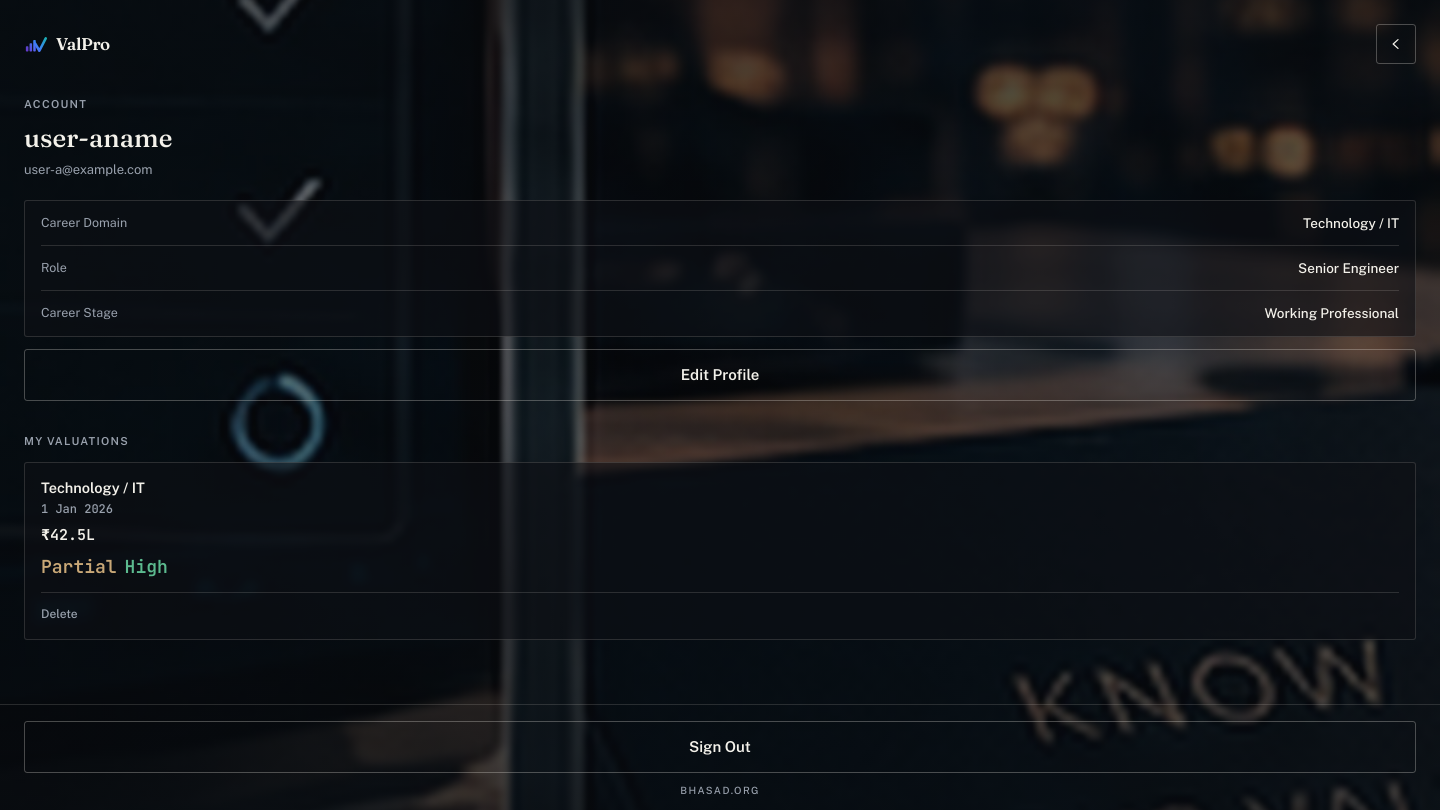
Test: Account — valuation cards › removes the valuation from the visible list after a successful delete, without a full reload
The image size is (1440, 810).
Expected: the element with test id "valuation-card" is shown, [24,462,1416,640]
What coordinates should you click on to do the following:
click the button "Delete"
I would click on:
 (59, 614)
Its box is [41,592,1399,623].
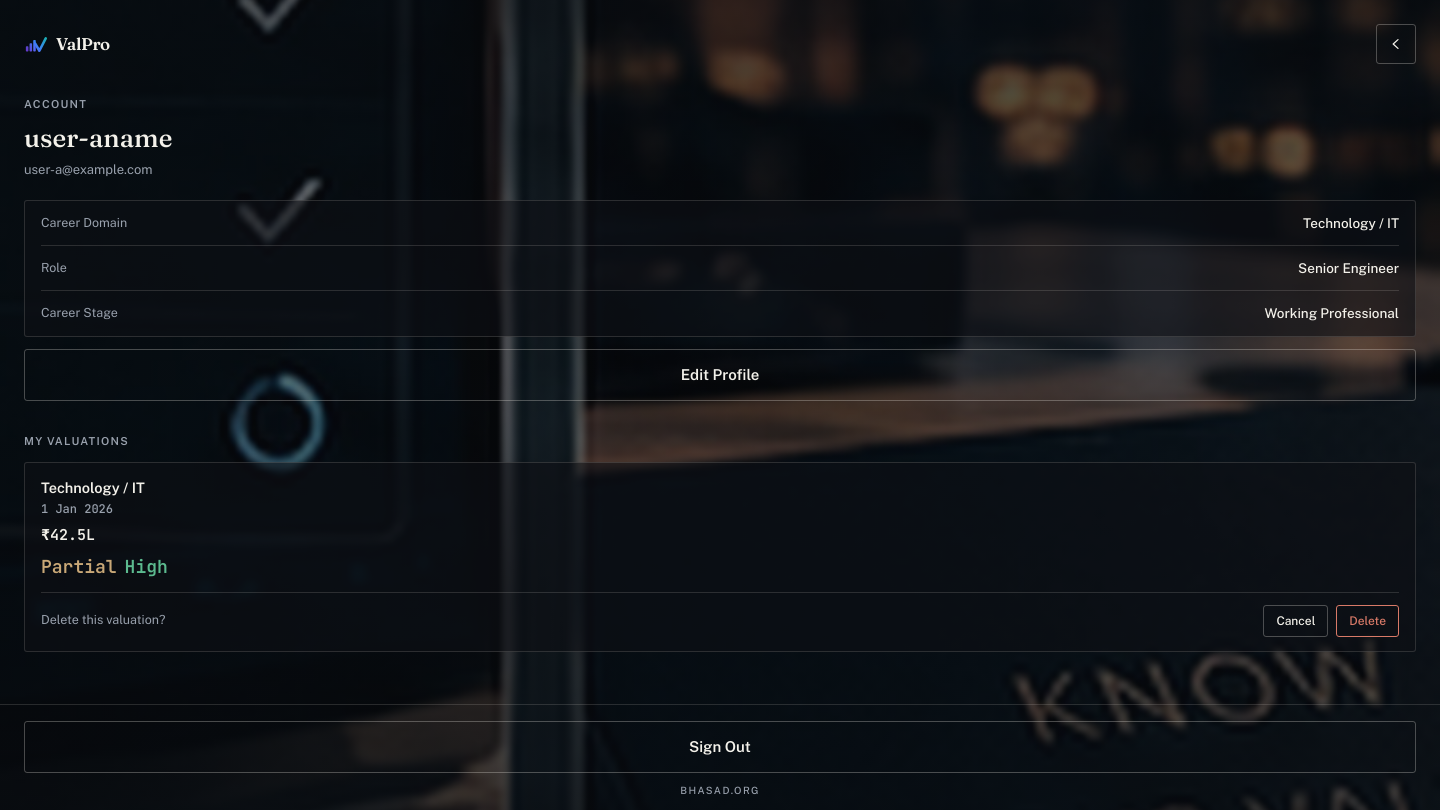
What coordinates should you click on to do the following:
click the button "Delete"
I would click on:
 (1368, 621)
Its box is [1336,605,1399,637].
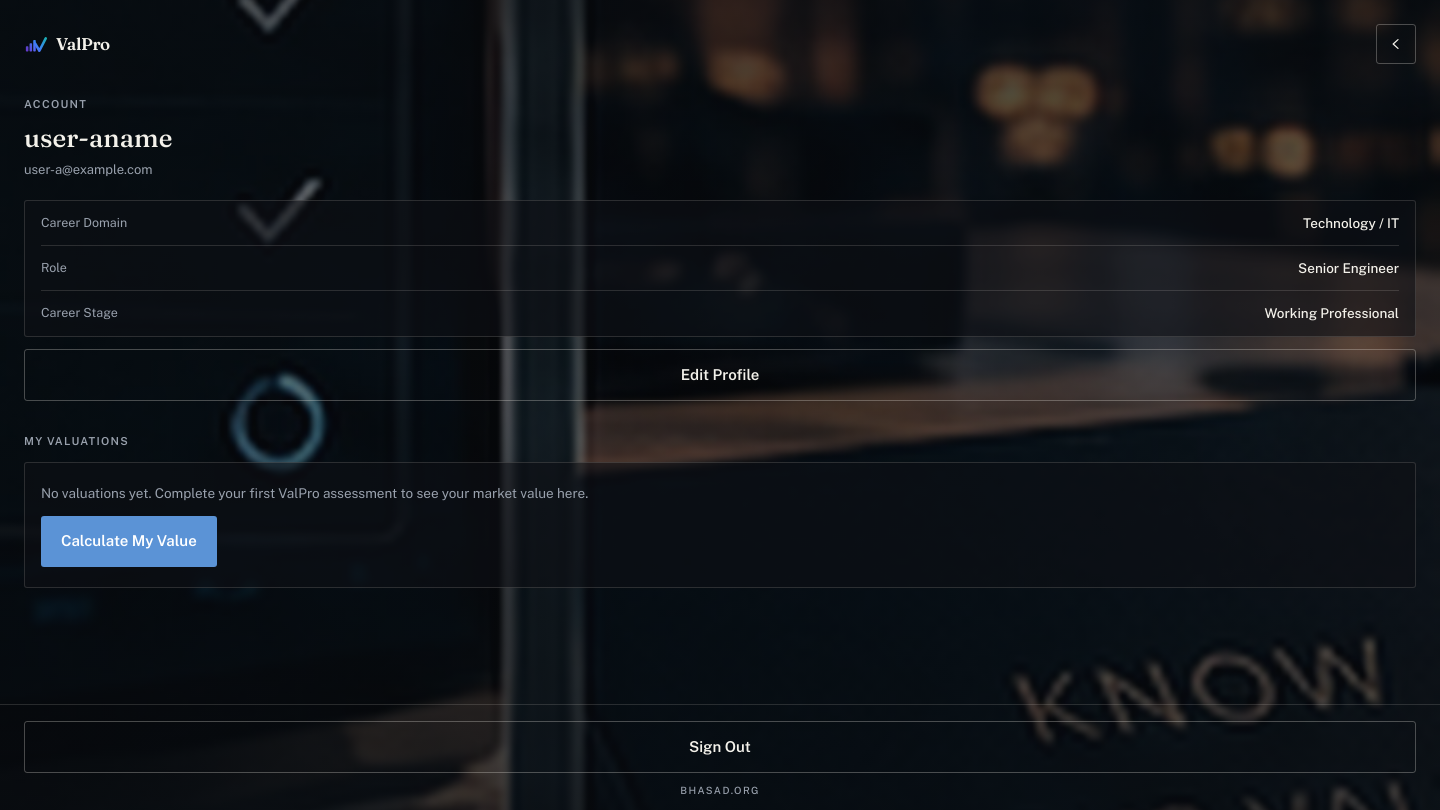
Expected: the element with test id "valuation-card" is gone
